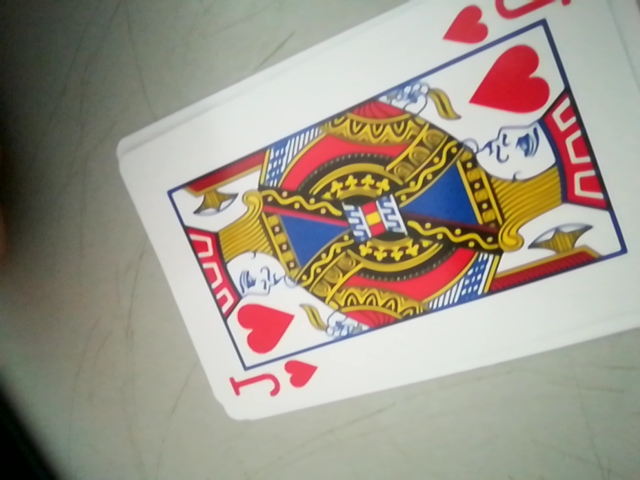hx j: (223, 357, 322, 412)
